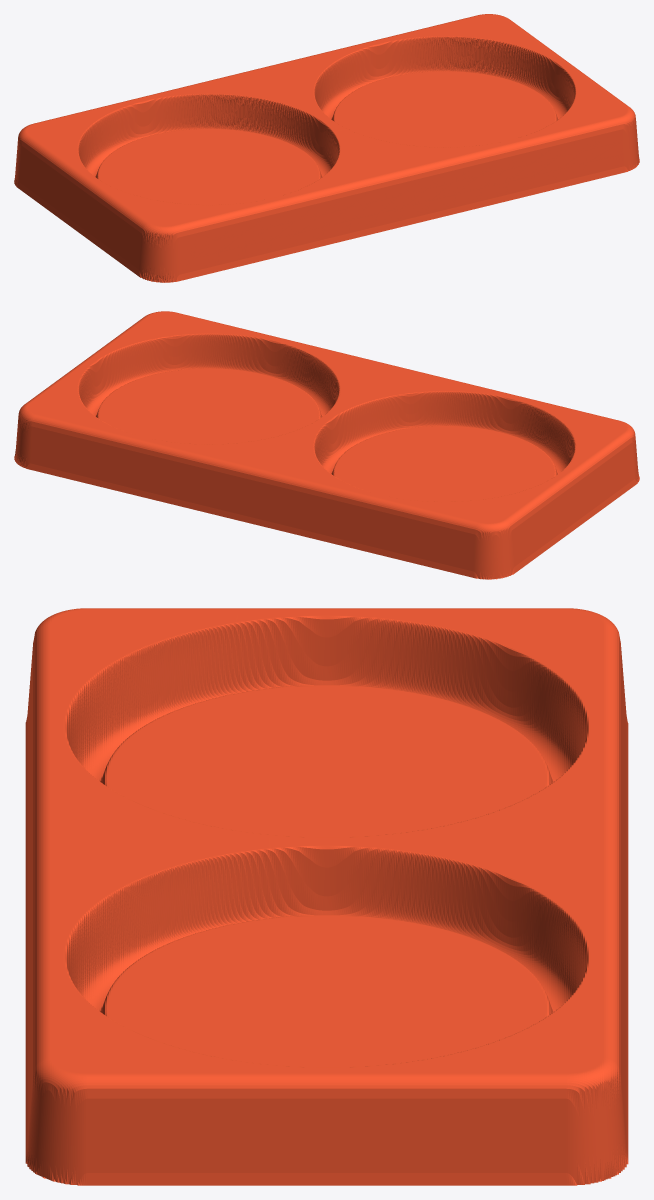
File: mold.glb
3 renders of one model, top to bottom at view 1: azimuth 30°, elevation 25°; view 2: azimuth 150°, elevation 25°; view 3: azimuth 270°, elevation 25°, orthographic. The views are drawn at different scales.
Parts seen in each view (by area): view 1: geometry_0; view 2: geometry_0; view 3: geometry_0.
Part boxes in pixels (x1,y1,x2,y2): geometry_0: (14,14,639,282); geometry_0: (14,311,639,579); geometry_0: (25,608,628,1185).
Size of the model in its own units: 0.1688 by 0.0165 by 0.0887.
